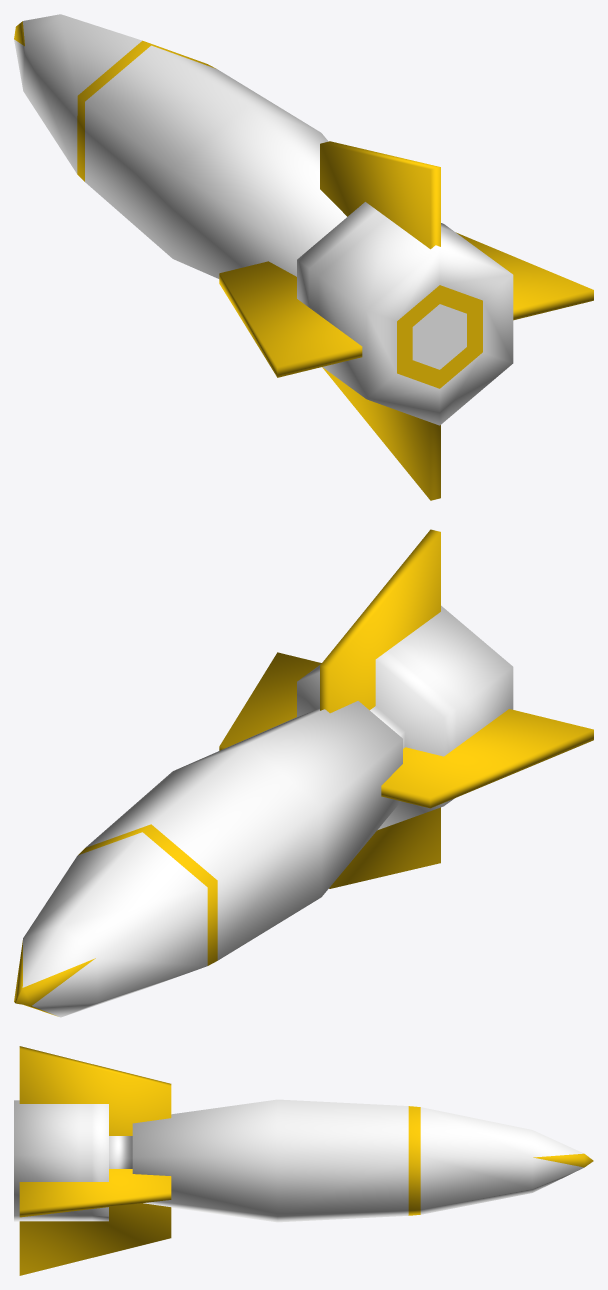
Rendered from Attack_MiniBoss_C_B.fbx.
3 renders of one model, top to bottom at view 1: azimuth 30°, elevation 25°; view 2: azimuth 150°, elevation 25°; view 3: azimuth 270°, elevation 25°, orthographic. The views are drawn at different scales.
Parts seen in each view (by area): view 1: Attack_MiniBoss_C_B; view 2: Attack_MiniBoss_C_B; view 3: Attack_MiniBoss_C_B.
Part boxes in pixels (<box>): Attack_MiniBoss_C_B: <box>14,14,593,500</box>; Attack_MiniBoss_C_B: <box>14,529,593,1017</box>; Attack_MiniBoss_C_B: <box>14,1046,593,1275</box>.
Bounding box in the file's own units: 99 × 99 × 230.
Materials: 1 (1 with a texture image).
